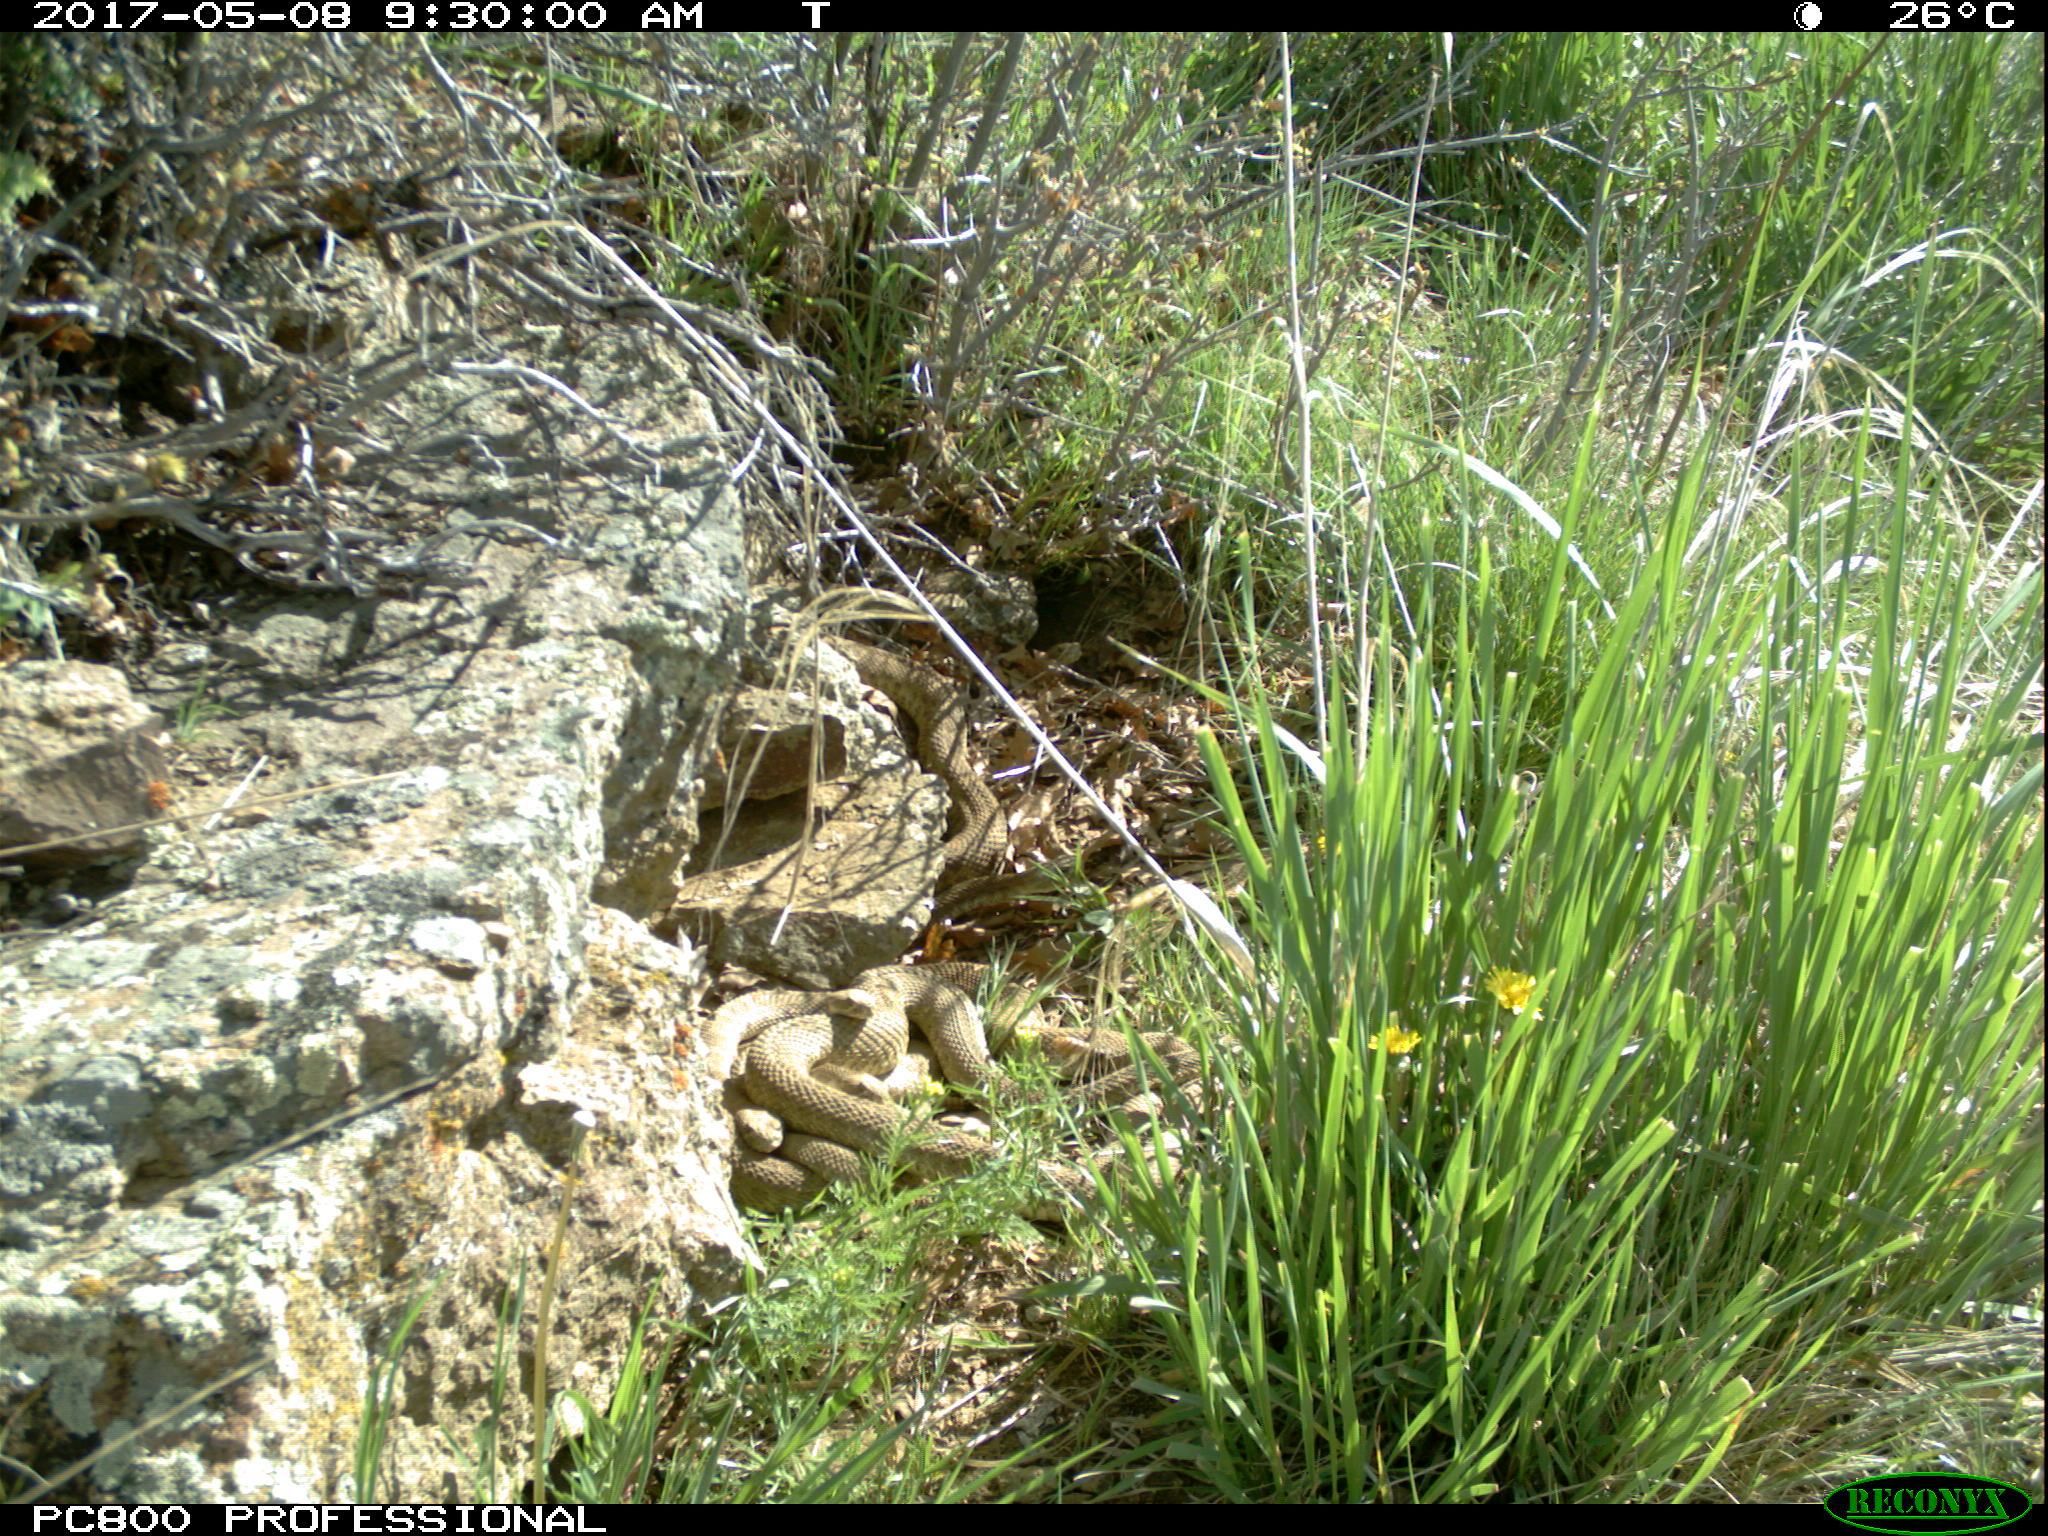snake: (701, 957, 1008, 1199), (821, 629, 1019, 904), (990, 1021, 1221, 1210)
